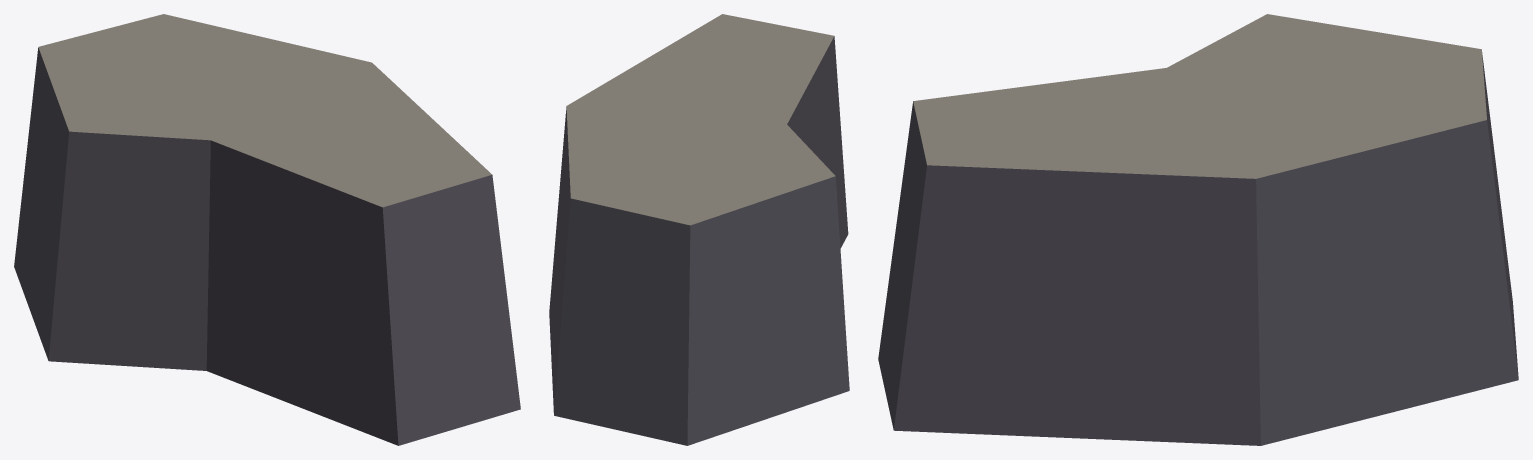
File: TB_Env_RockG.FBX
3 renders of one model, left to right at view 1: azimuth 30°, elevation 25°; view 2: azimuth 150°, elevation 25°; view 3: azimuth 270°, elevation 25°, orthographic. The views are drawn at different scales.
Visible parts, largest first — view 1: TB_Env_RockG; view 2: TB_Env_RockG; view 3: TB_Env_RockG.
Boxes of the visible parts, box(x1,y1,x2,y2) form: TB_Env_RockG: box(14, 14, 520, 445); TB_Env_RockG: box(549, 14, 849, 445); TB_Env_RockG: box(878, 14, 1518, 445).
Size of the model in its own units: 1.28 by 0.8333 by 1.88.
